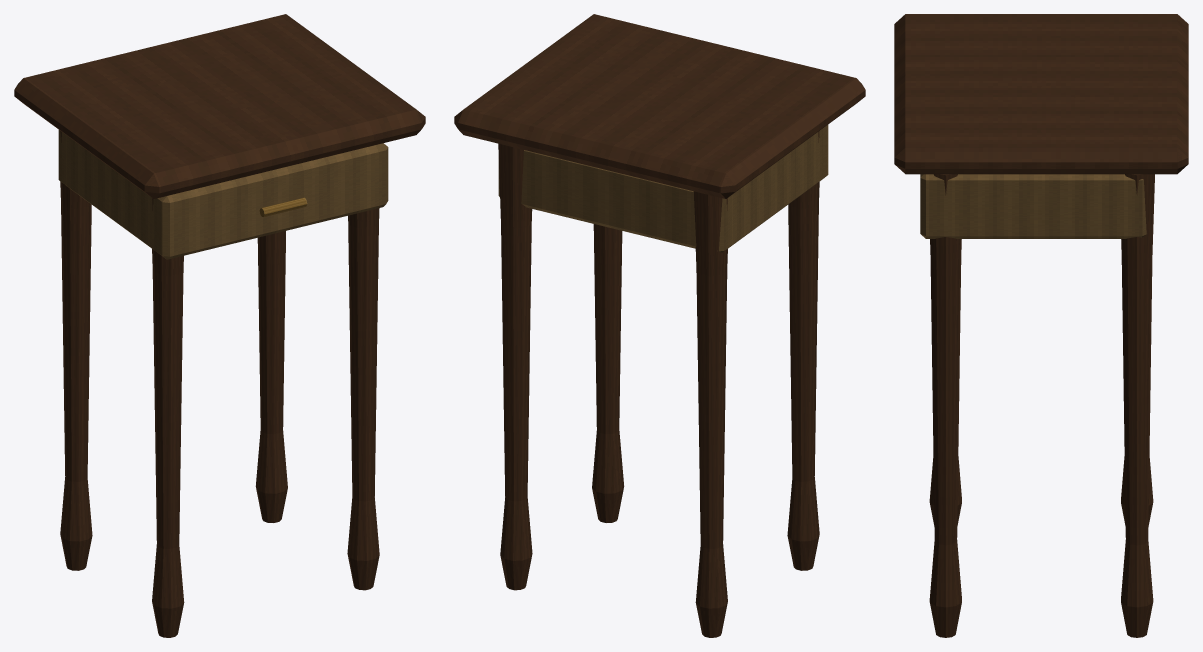
The model's file is level_event_side_table.glb.
3 views of the same model, side by side, from view 1: azimuth 30°, elevation 25°; view 2: azimuth 150°, elevation 25°; view 3: azimuth 270°, elevation 25° (orthographic). The views are drawn at different scales.
Parts seen in each view (by area): view 1: level_event_side_table; view 2: level_event_side_table; view 3: level_event_side_table.
Boxes of the visible parts, <box> form: level_event_side_table: <box>14,14,425,637</box>; level_event_side_table: <box>454,14,865,637</box>; level_event_side_table: <box>894,14,1188,637</box>.
Bounding box in the file's own units: 0.46 × 0.755 × 0.4.
Materials: 3 (3 with a texture image).
